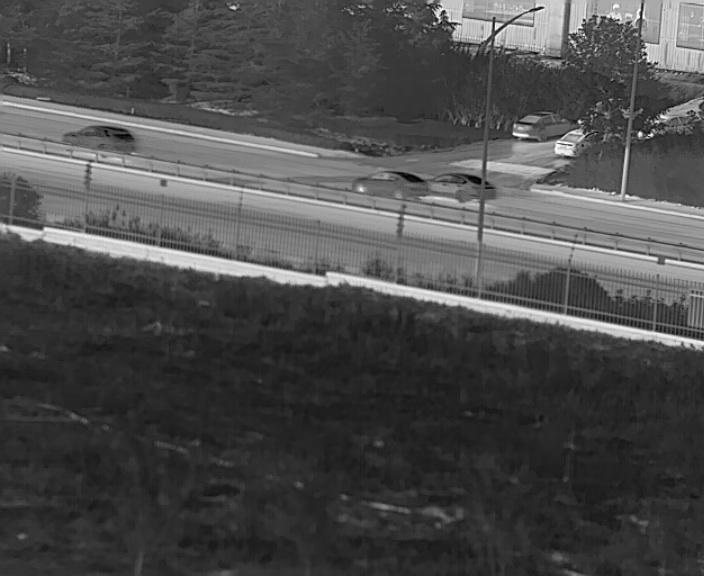vehicle: (351, 170, 424, 201), (62, 125, 134, 154), (424, 172, 494, 201), (513, 113, 568, 144), (554, 129, 588, 158)
